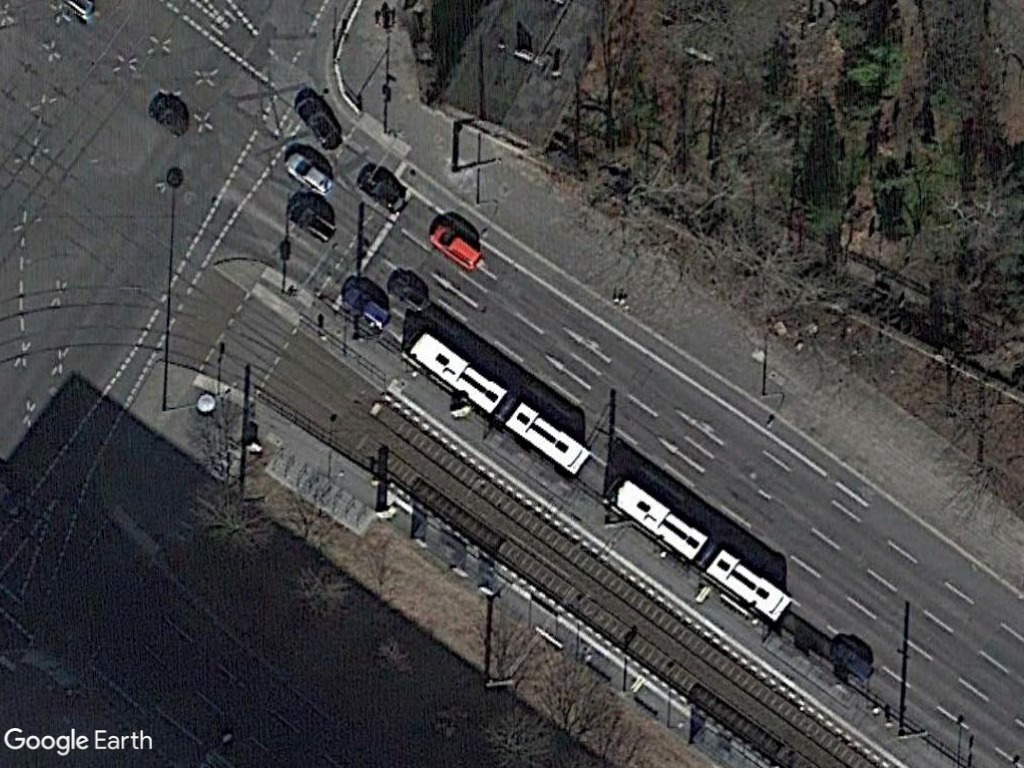bus: (403, 323, 594, 479), (604, 472, 714, 568), (704, 545, 799, 635)
car: (425, 214, 488, 275), (277, 148, 336, 198), (336, 279, 392, 331)
